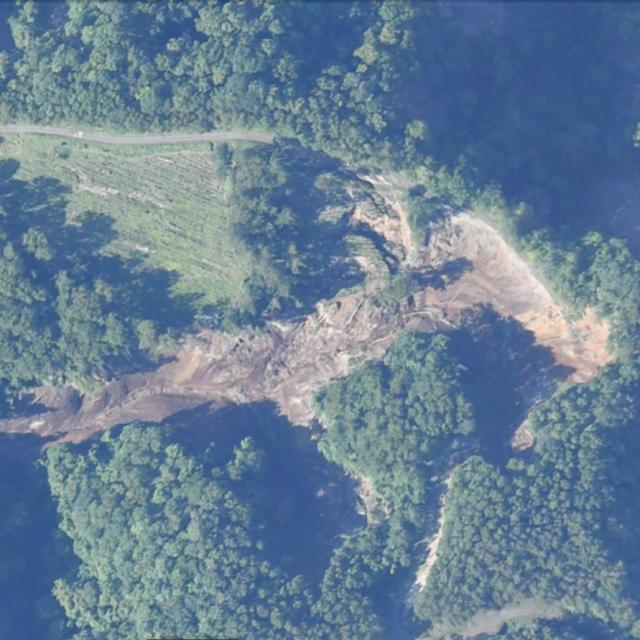landslide: (0, 200, 611, 443)
